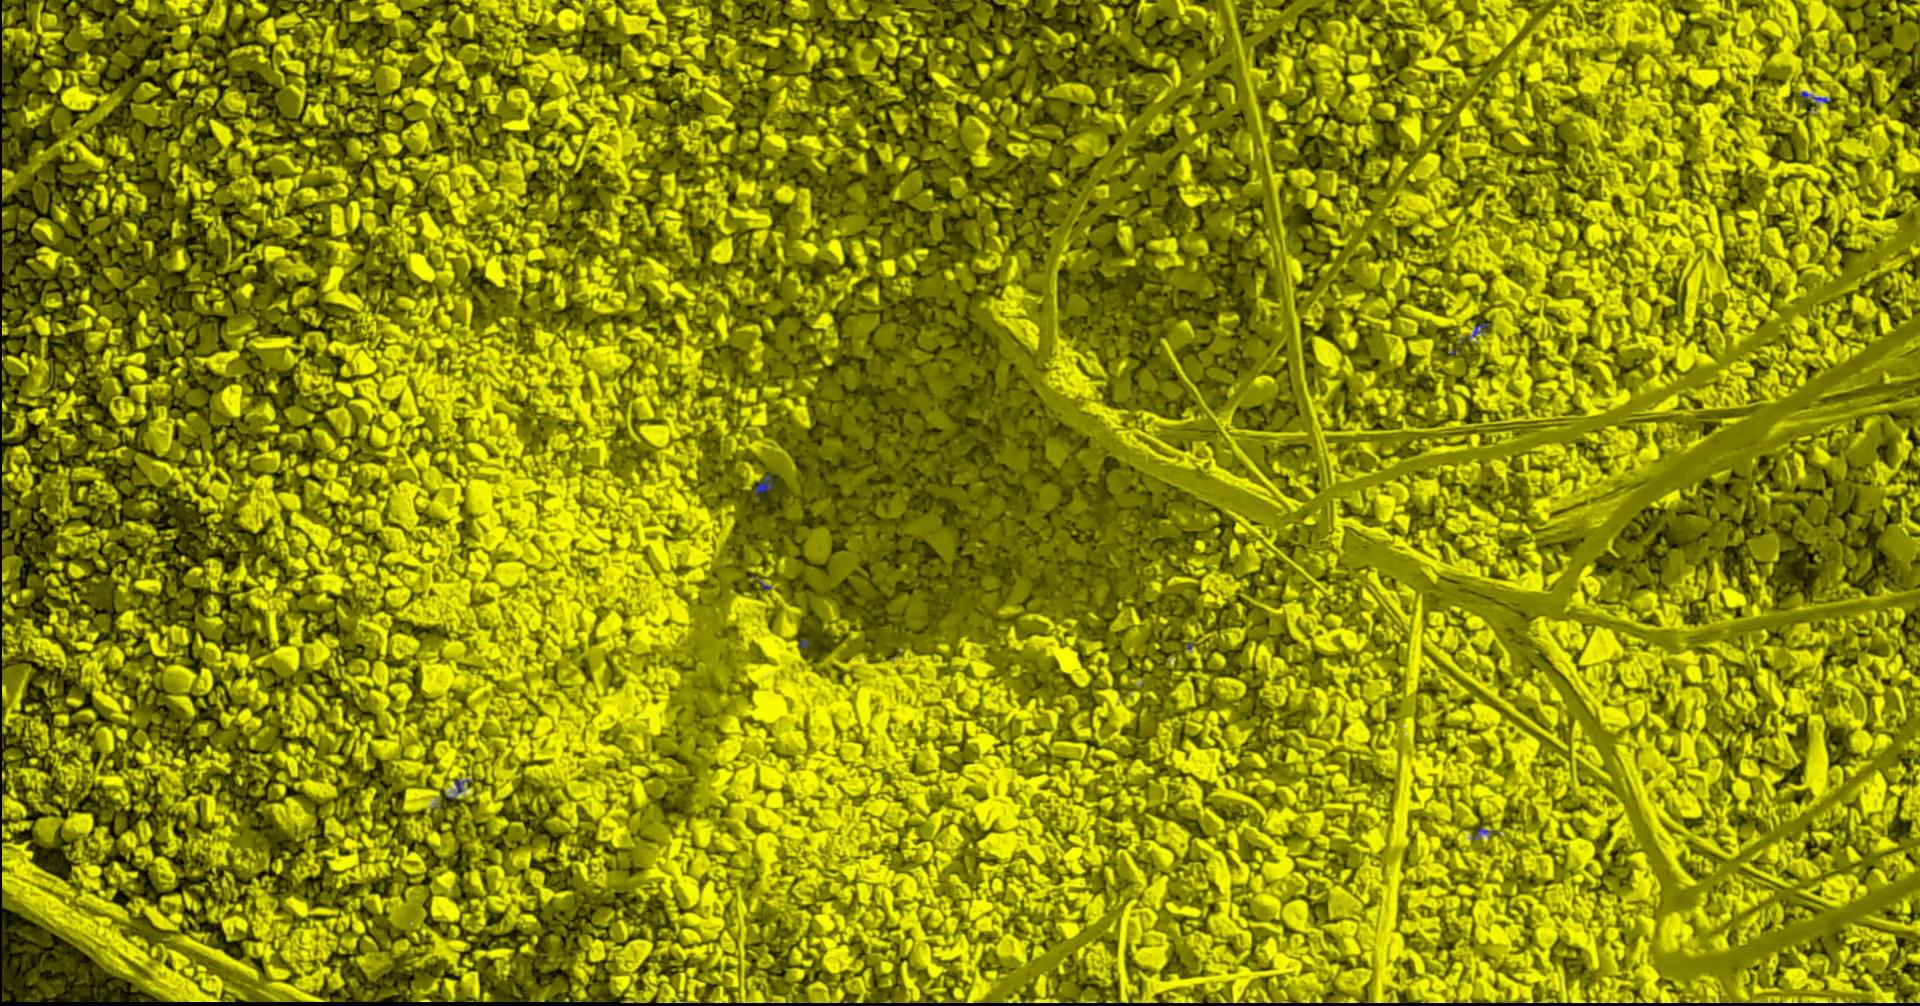ant: (753, 474, 773, 500), (1799, 91, 1830, 104), (1467, 323, 1487, 340)
